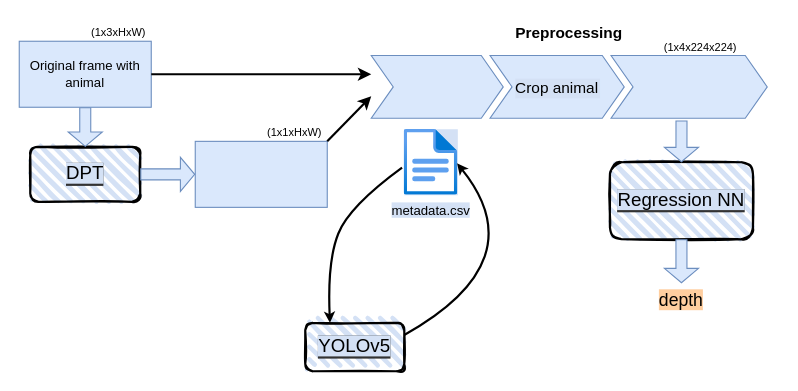
This 798x391 diagram has some shape labels left out. Here are the shapes that lost their labels. From the top down, the centre of each, then its label:
the point at 436,86: Read meta
the point at 688,86: Stack channels
the point at 260,173: Depth map
